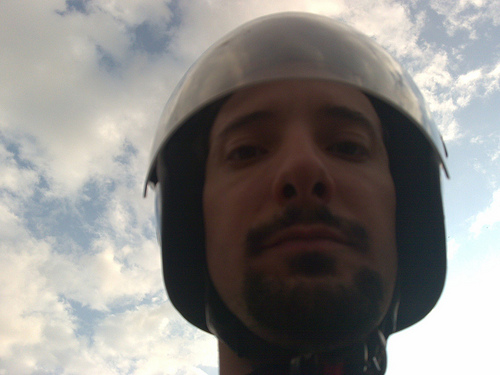helmet: (156, 34, 461, 312)
